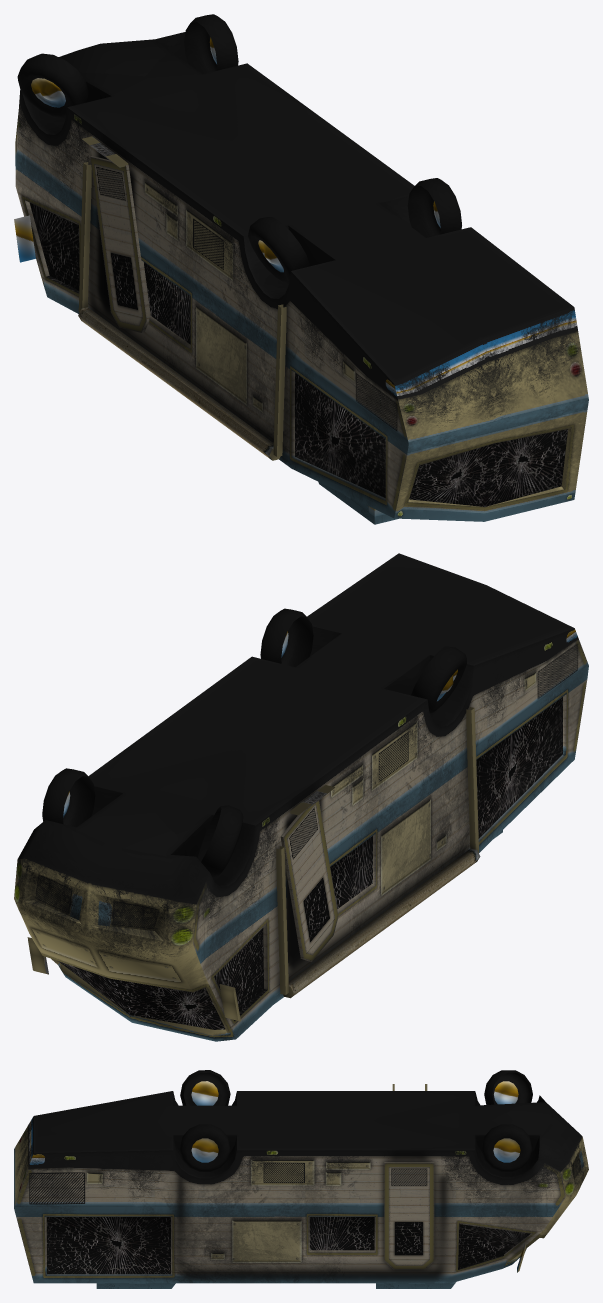
The model's file is HomeOnWheels.FBX.
The picture shows the model from 3 angles, top to bottom: view 1: azimuth 30°, elevation 25°; view 2: azimuth 150°, elevation 25°; view 3: azimuth 270°, elevation 25°; orthographic projection. The views are drawn at different scales.
Visible parts, largest first — view 1: CarHome; view 2: CarHome; view 3: CarHome.
Part boxes in pixels (x1,y1,x2,y2): CarHome: (14, 14, 588, 524); CarHome: (14, 553, 588, 1041); CarHome: (14, 1070, 588, 1288).
Bounding box in the file's own units: 127 × 431 × 140.
